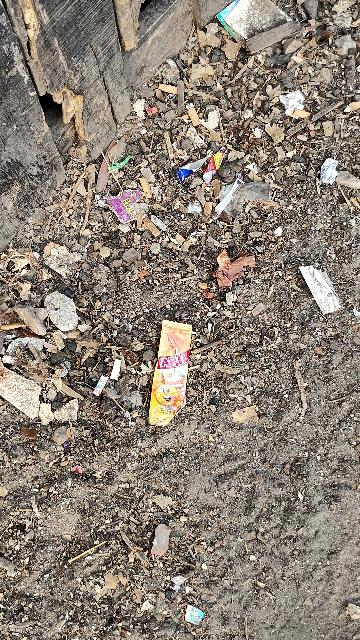packet: (134, 308, 210, 432)
